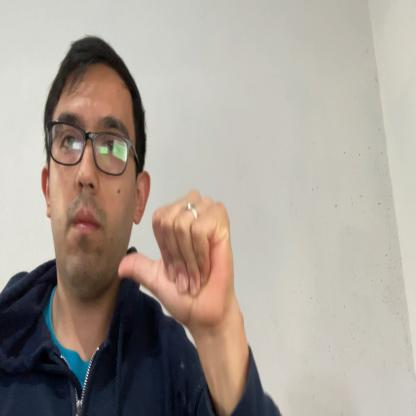A: (116, 189, 235, 330)
